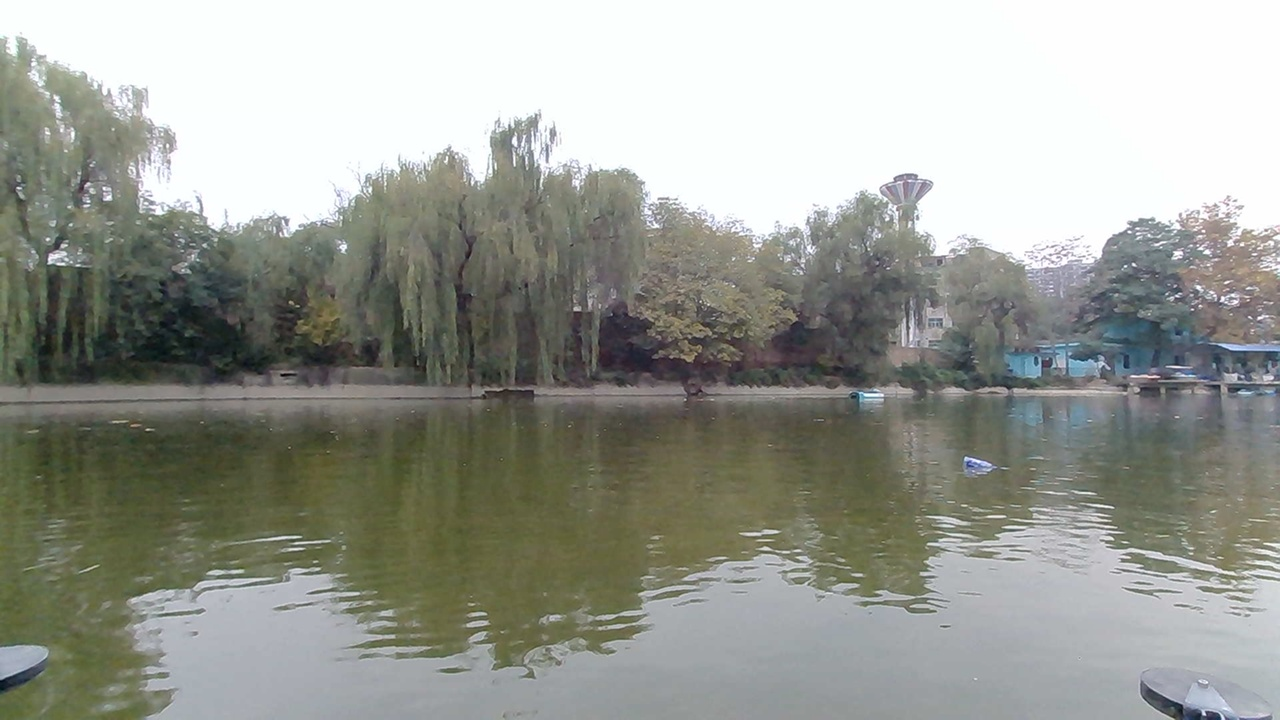bottle: (957, 450, 1002, 484)
